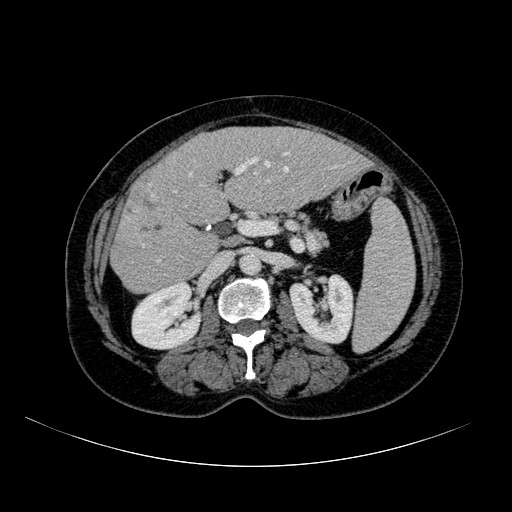clipe: (204, 224, 213, 232)
